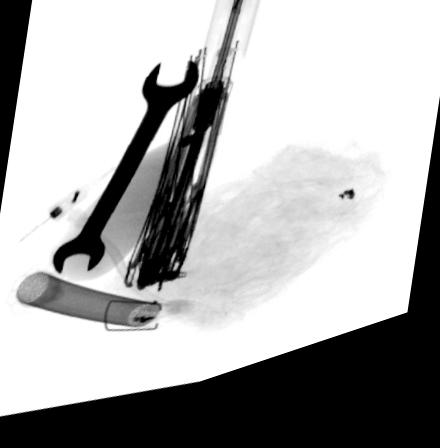Wrench: (50, 67, 200, 281)
